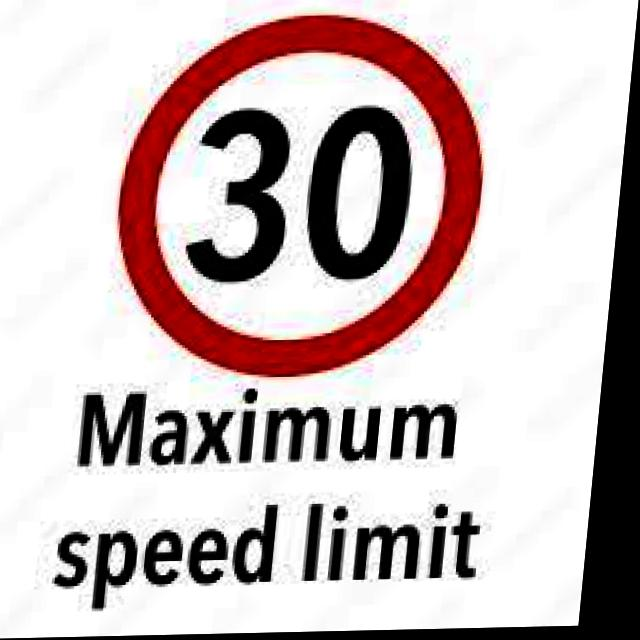SPEED_LIMIT_30: (106, 4, 499, 387)
